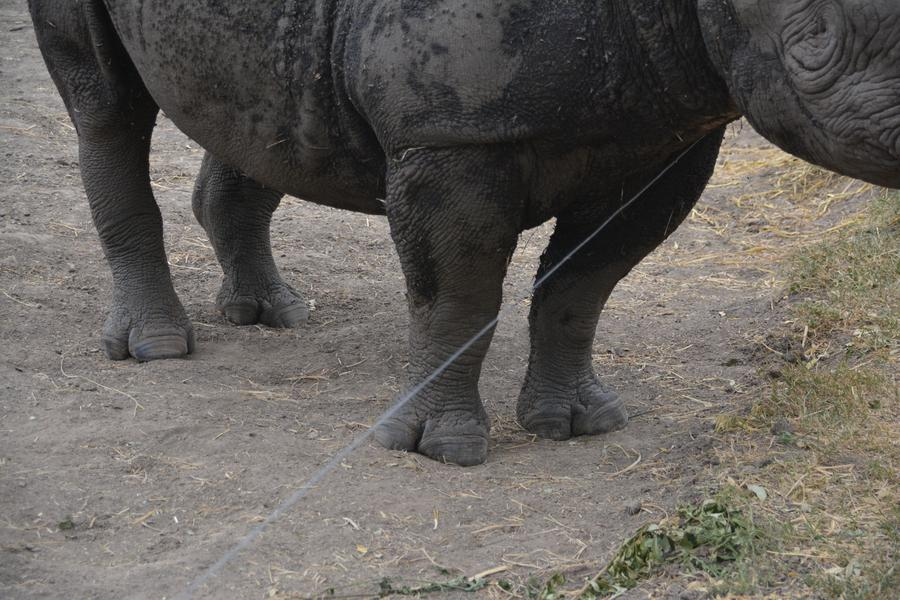rhino: (46, 26, 873, 392)
